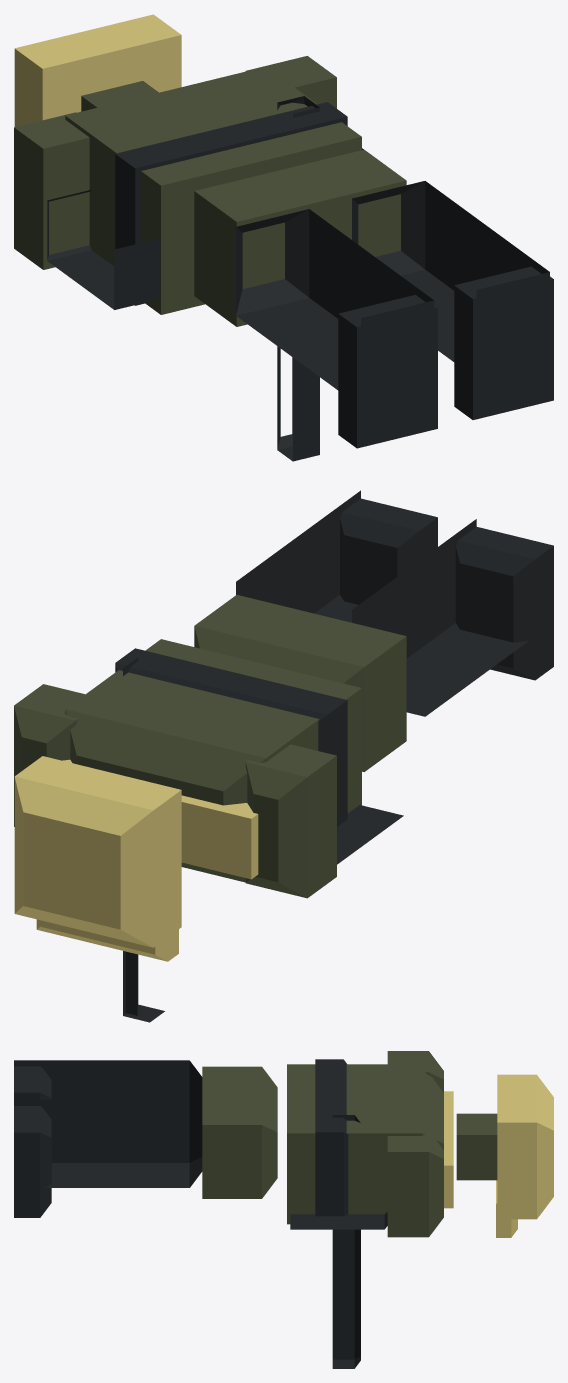
The model's file is rifle_soldier.glb.
The picture shows the model from 3 angles, top to bottom: view 1: azimuth 30°, elevation 25°; view 2: azimuth 150°, elevation 25°; view 3: azimuth 270°, elevation 25°; orthographic projection. The views are drawn at different scales.
Visible parts, largest first — view 1: Body; view 2: Body; view 3: Body.
Boxes of the visible parts, left/top/right/bottom form: Body: left=14, top=14, right=553, bottom=461; Body: left=14, top=490, right=553, bottom=1022; Body: left=14, top=1051, right=553, bottom=1368.
Size of the model in its own units: 0.76 by 0.86 by 1.72.
